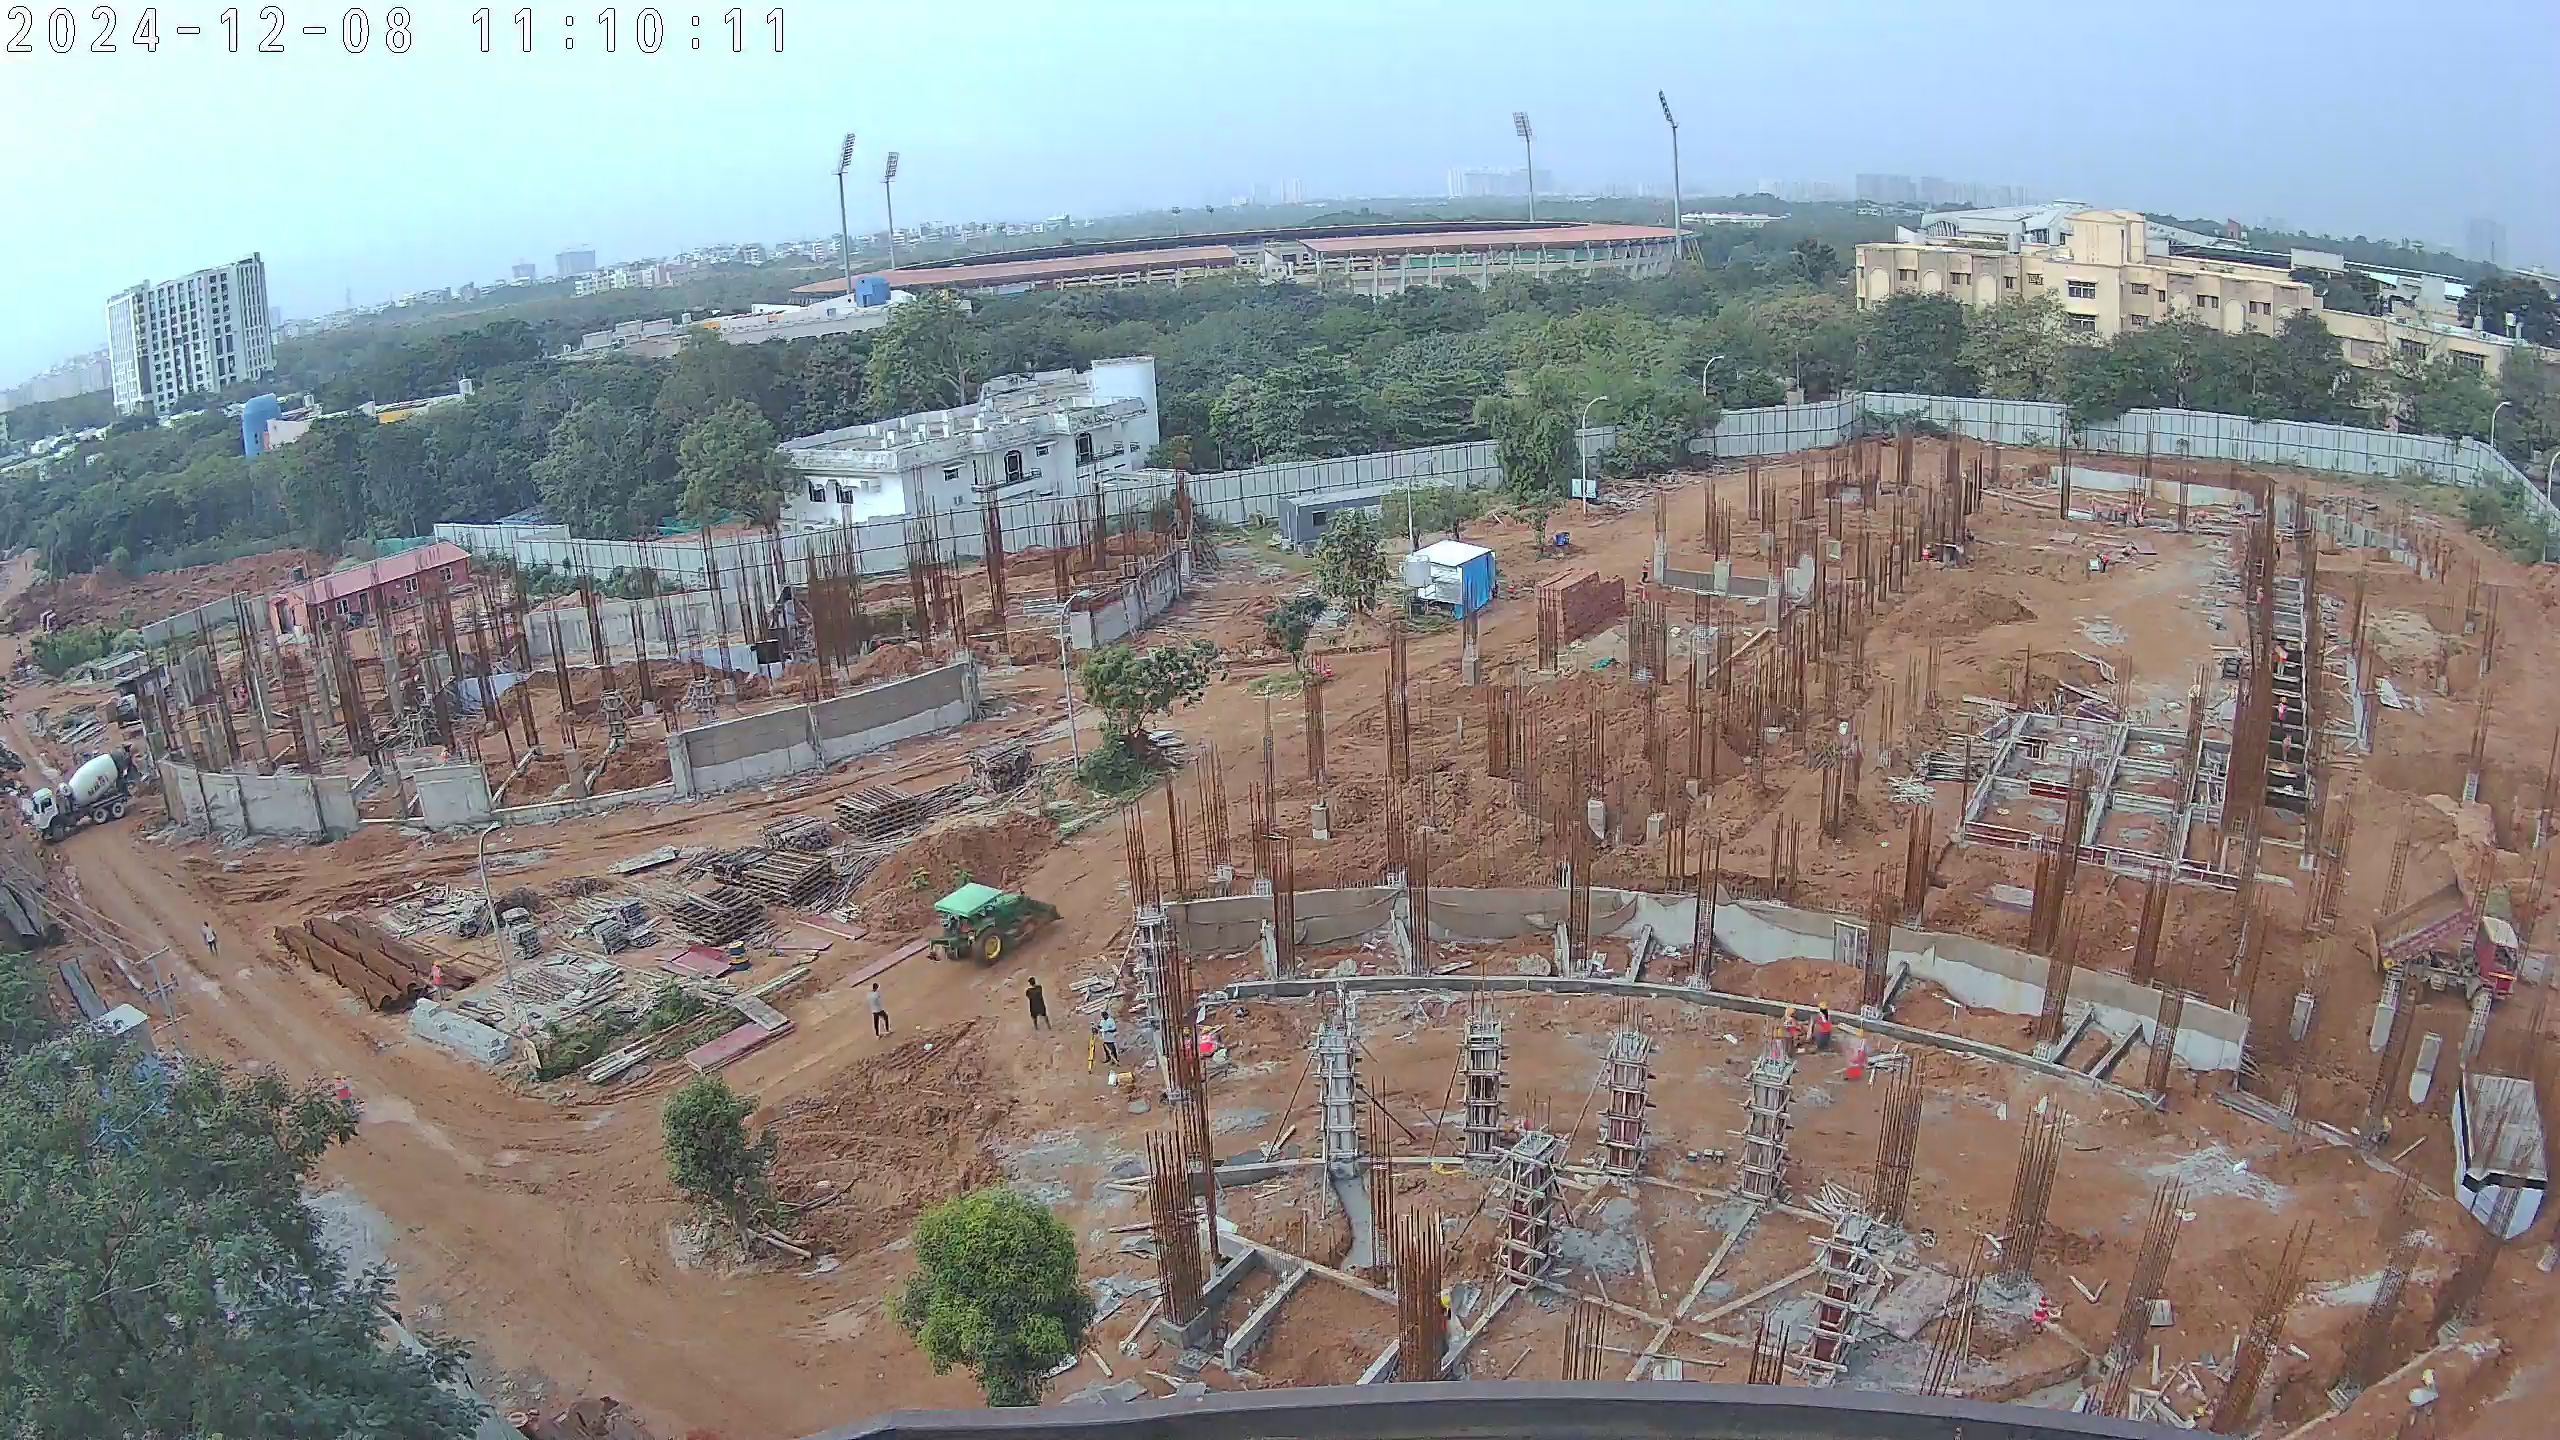bulldozer: (929, 881, 1066, 968)
truck: (2361, 875, 2525, 1017), (29, 750, 135, 841)
worker: (1170, 1027, 1227, 1099), (324, 1069, 366, 1131), (1777, 1000, 1813, 1068), (1806, 998, 1840, 1063), (1020, 970, 1049, 1035), (864, 977, 889, 1047), (1099, 1004, 1124, 1074), (196, 918, 228, 967), (429, 956, 453, 1009), (2275, 727, 2300, 767), (2271, 695, 2295, 734), (2092, 544, 2115, 578), (2271, 642, 2287, 682), (1919, 539, 1941, 565), (2253, 582, 2266, 621), (1640, 555, 1655, 588)
